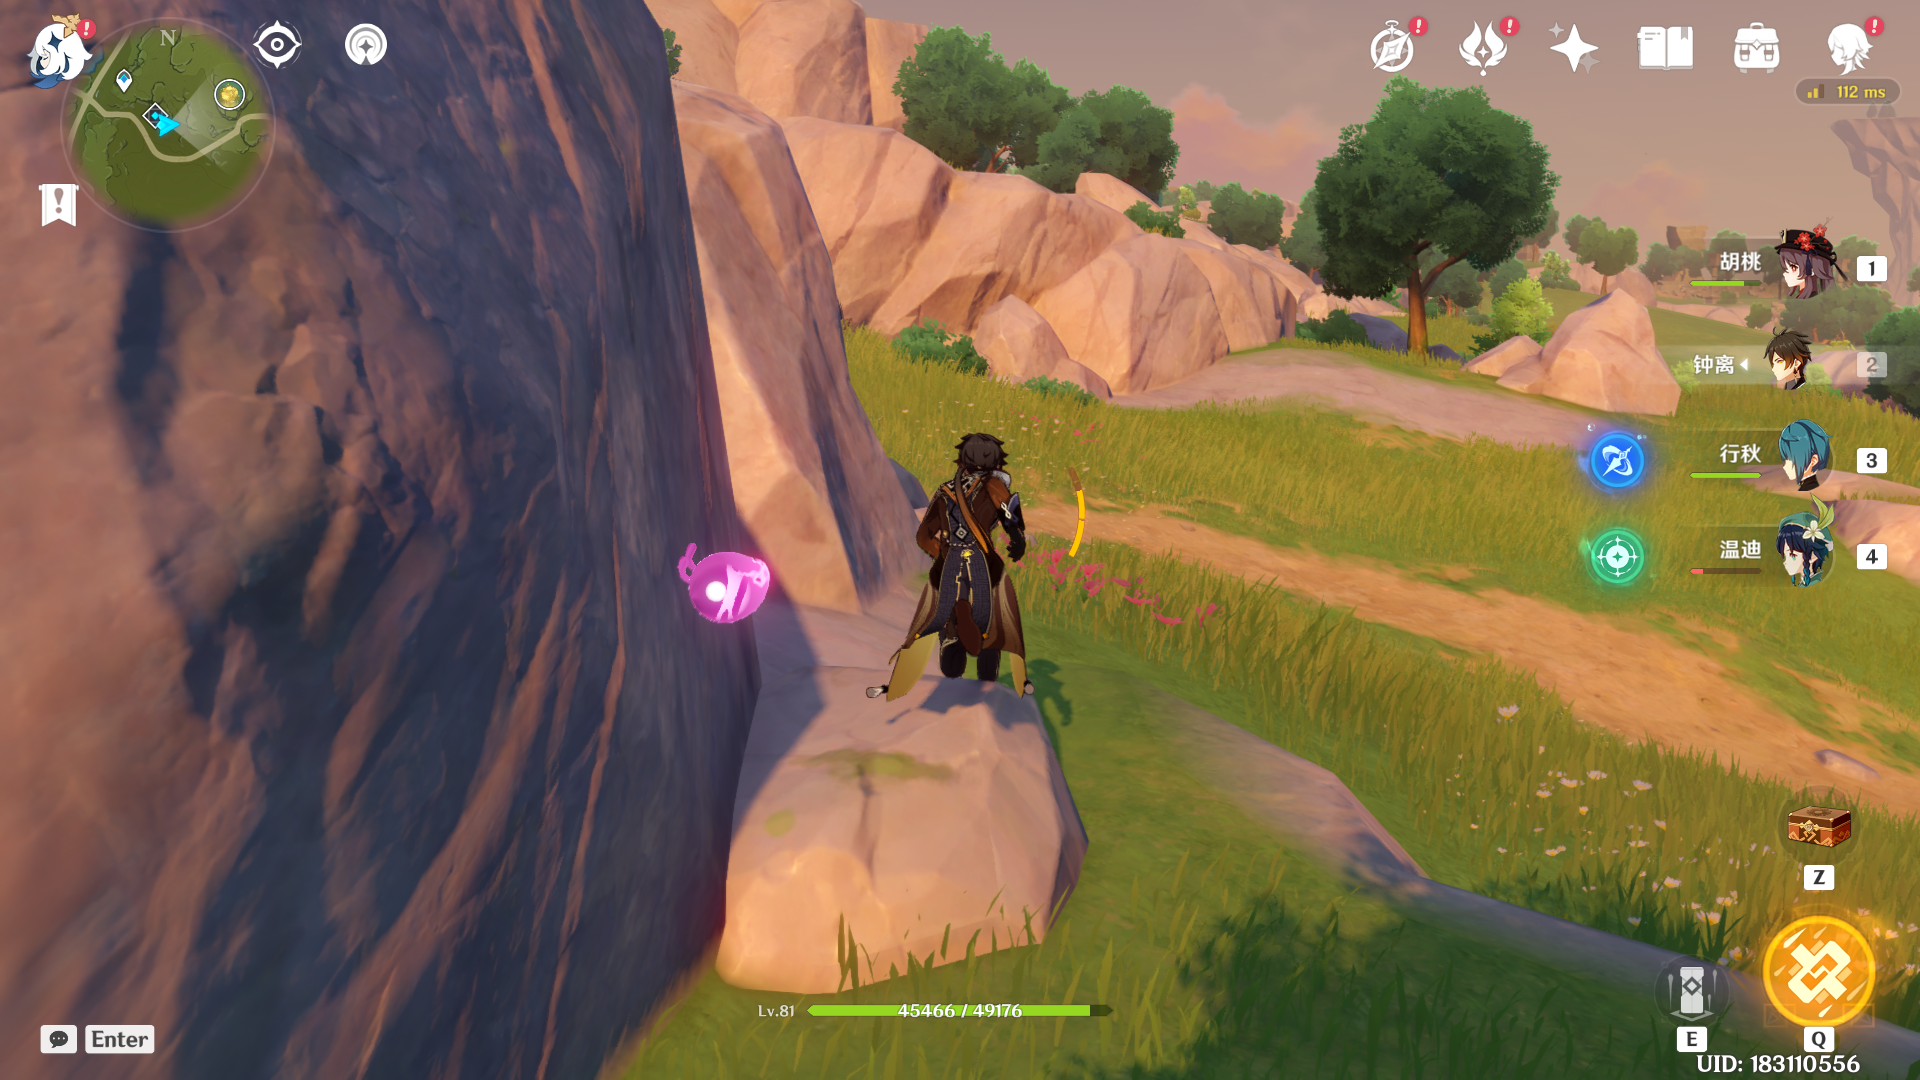character: (862, 434, 1108, 750)
